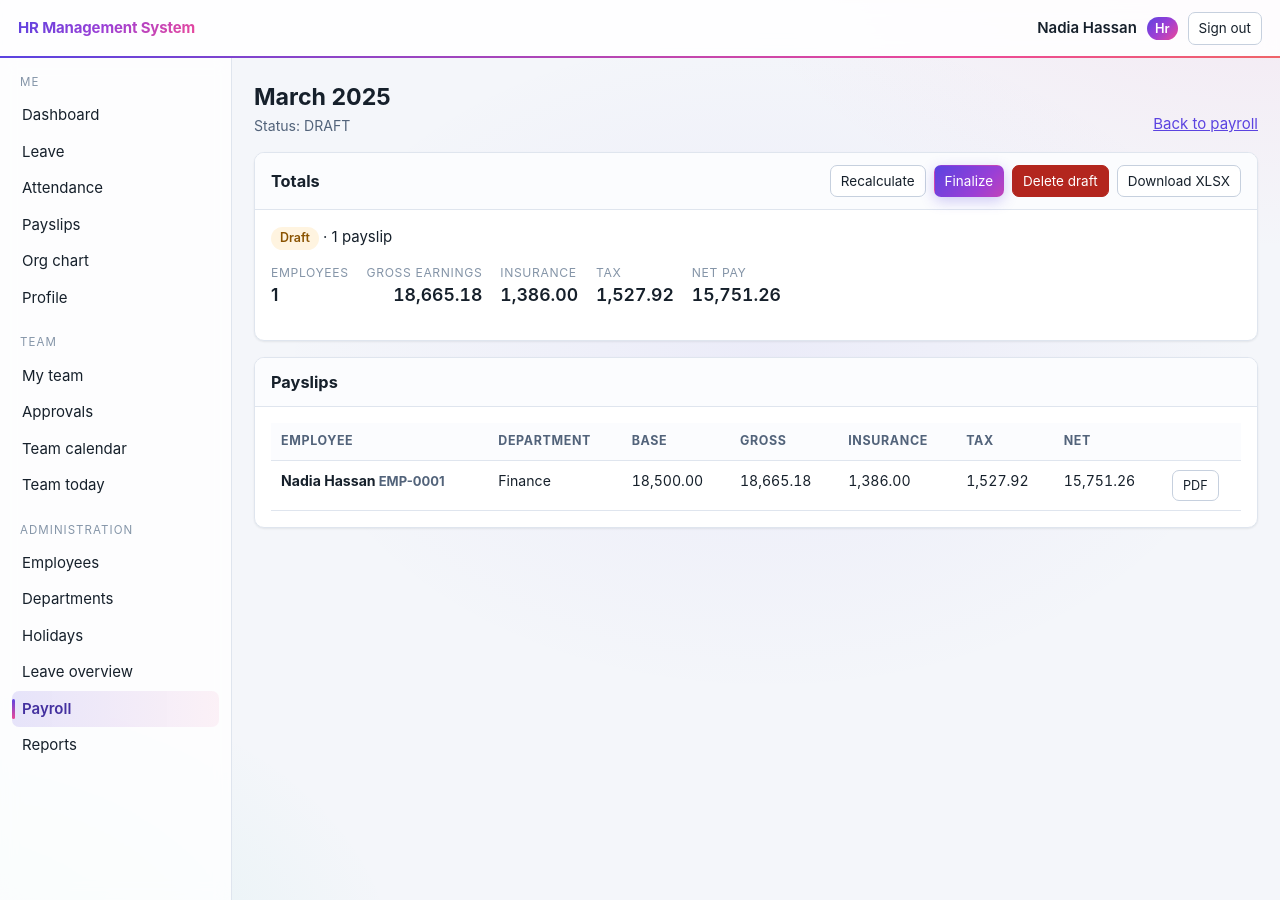
it: payroll run detail › shows the 409 message when a finalized run is recalculated
Click the button "Recalculate". click: [878, 181]
box: [830,165,926,197]
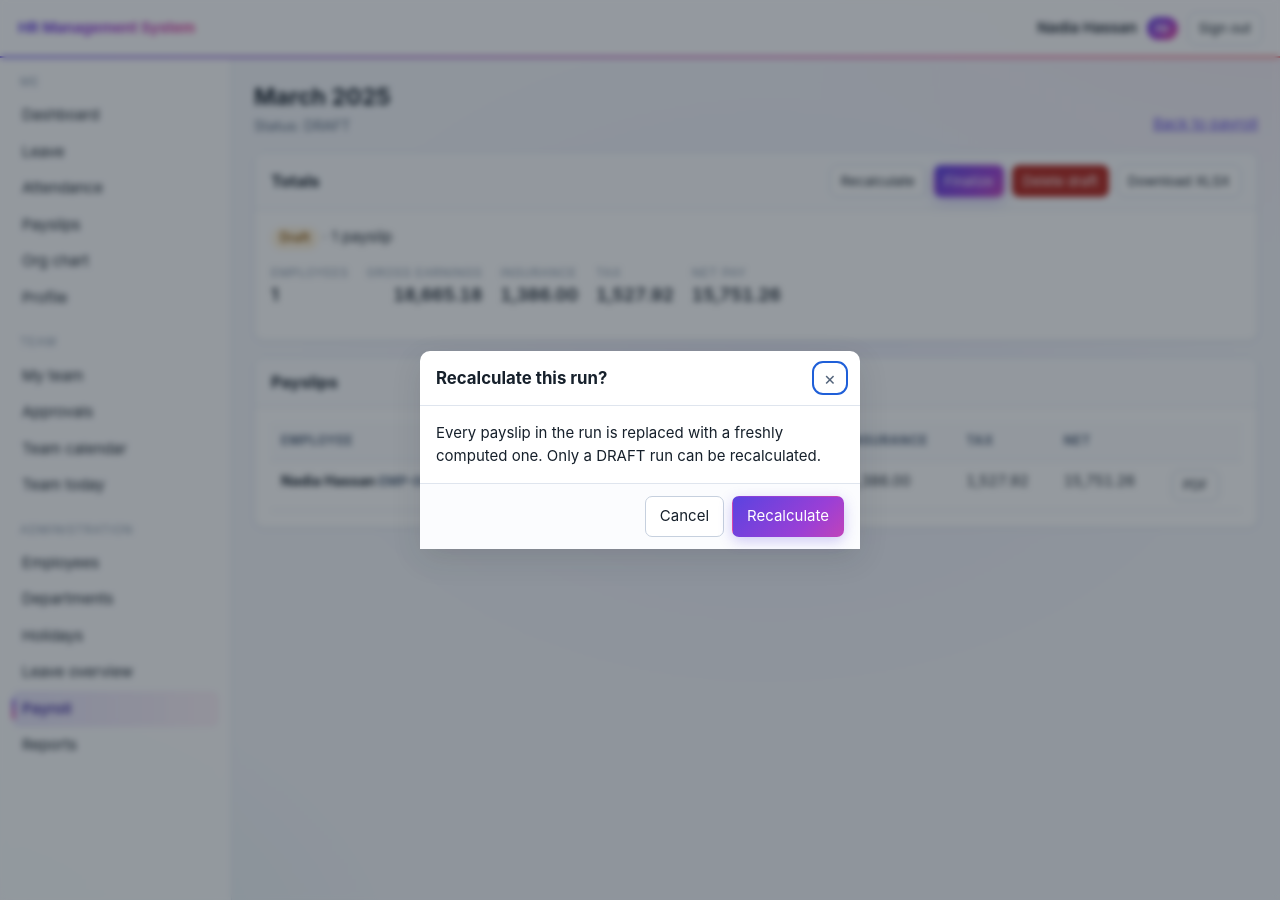
Click the button "Recalculate". click: [788, 517]
box: [732,496,844,537]
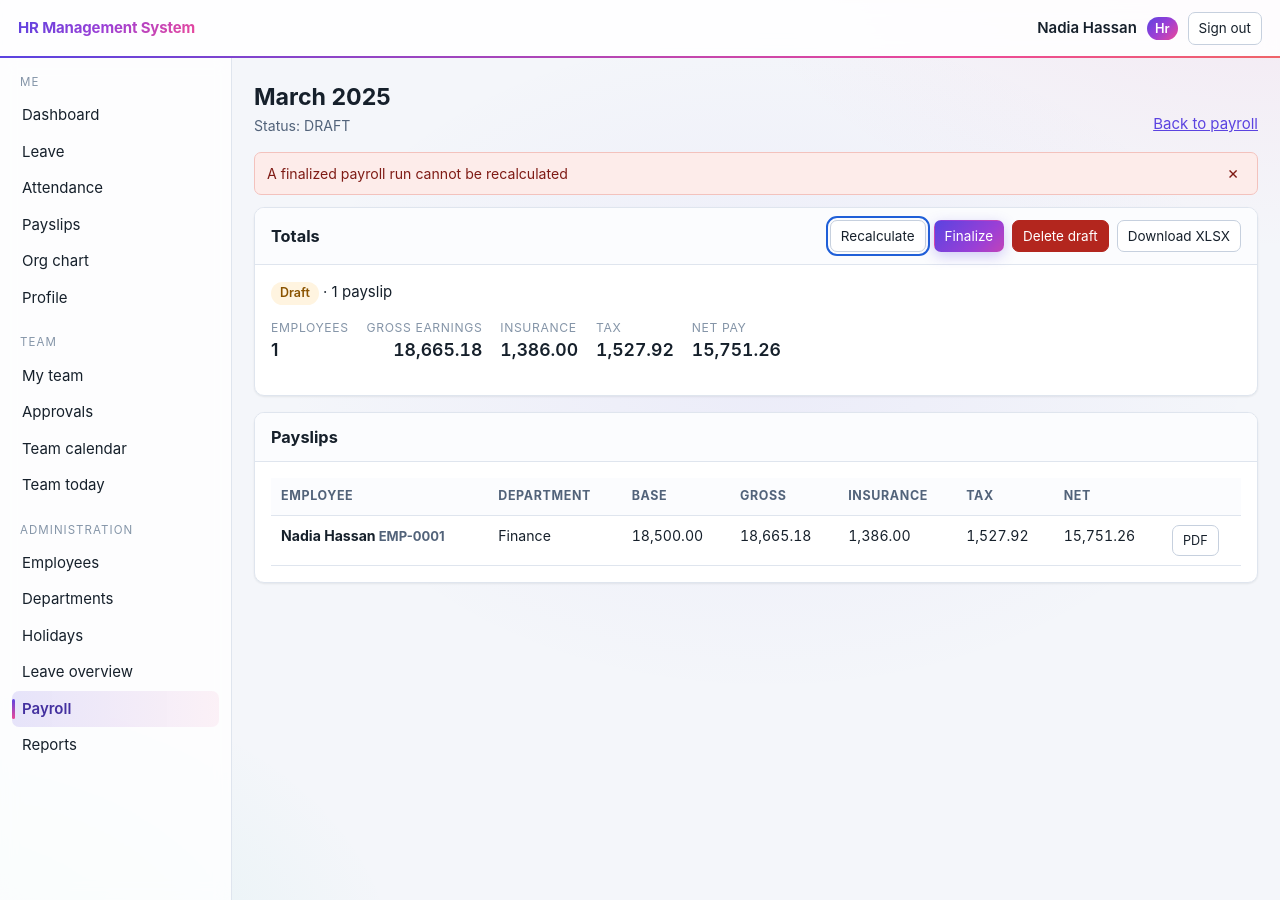
Expected: the message shows "A finalized payroll run cannot be recalculated", [267,165,568,182]
